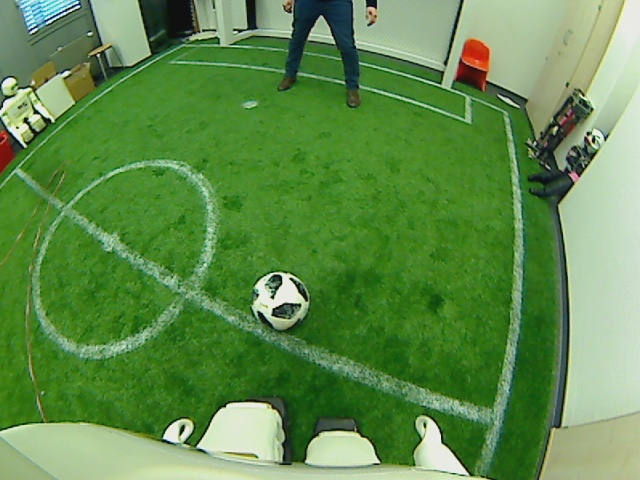ball: (249, 269, 311, 331)
